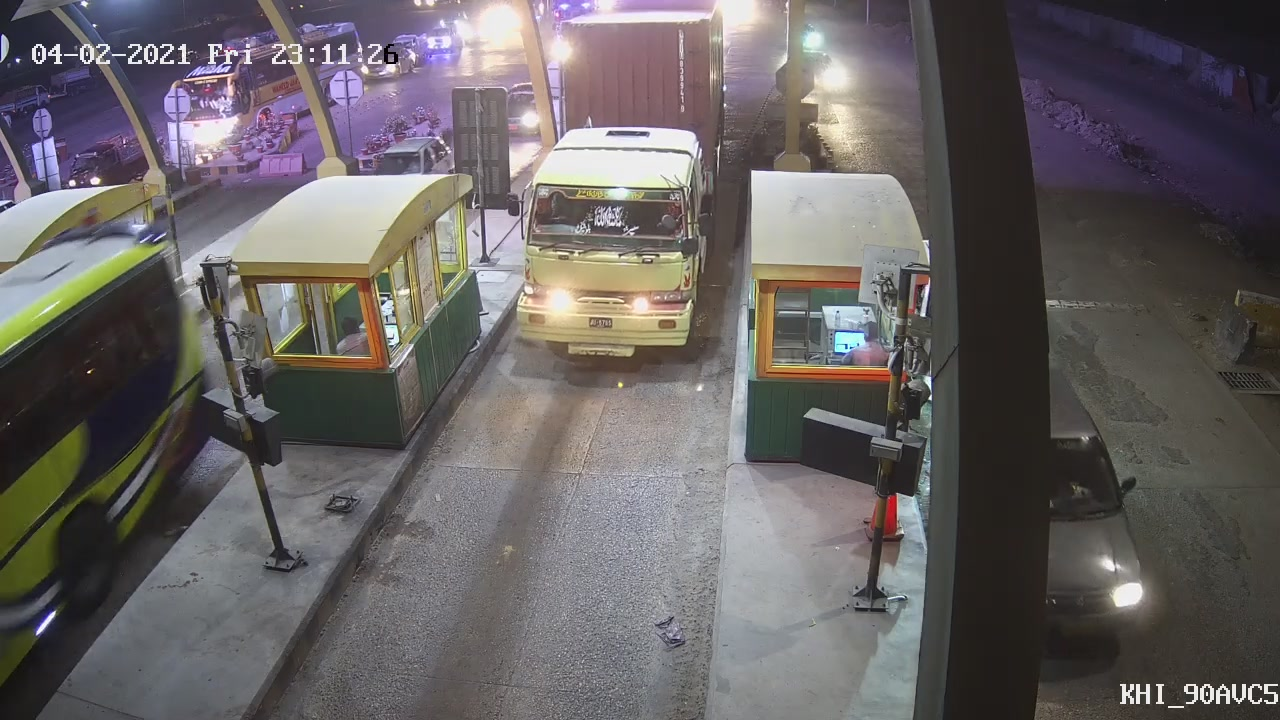F6: (500, 8, 728, 365)
